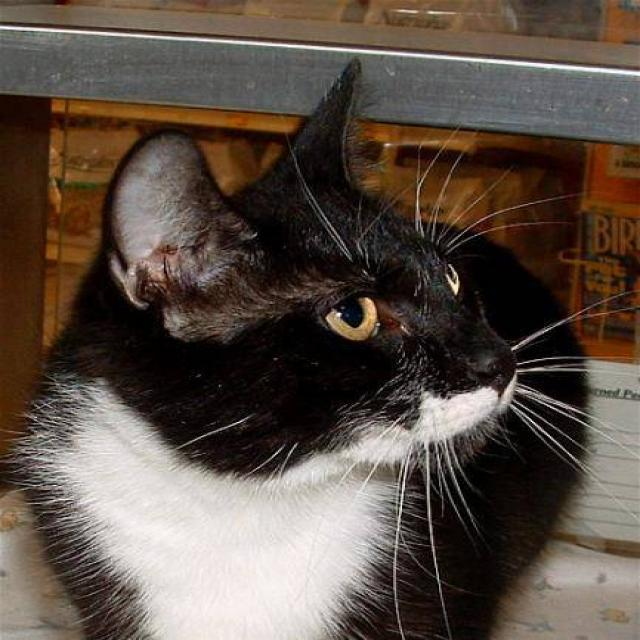cat: (0, 55, 639, 639)
